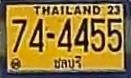4: (28, 18, 43, 51), (74, 17, 88, 51), (57, 18, 71, 50)
5: (90, 17, 104, 51), (107, 17, 121, 51)
7: (12, 18, 26, 52)
CBI: (51, 55, 84, 70)
